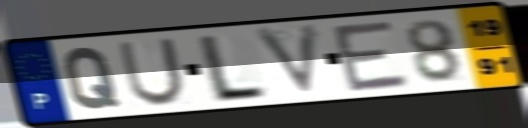8: (403, 18, 464, 85)
E: (328, 17, 414, 95)
L: (197, 32, 269, 106)
Q: (60, 45, 123, 112)
U: (115, 35, 189, 108)
V: (250, 21, 324, 101)
